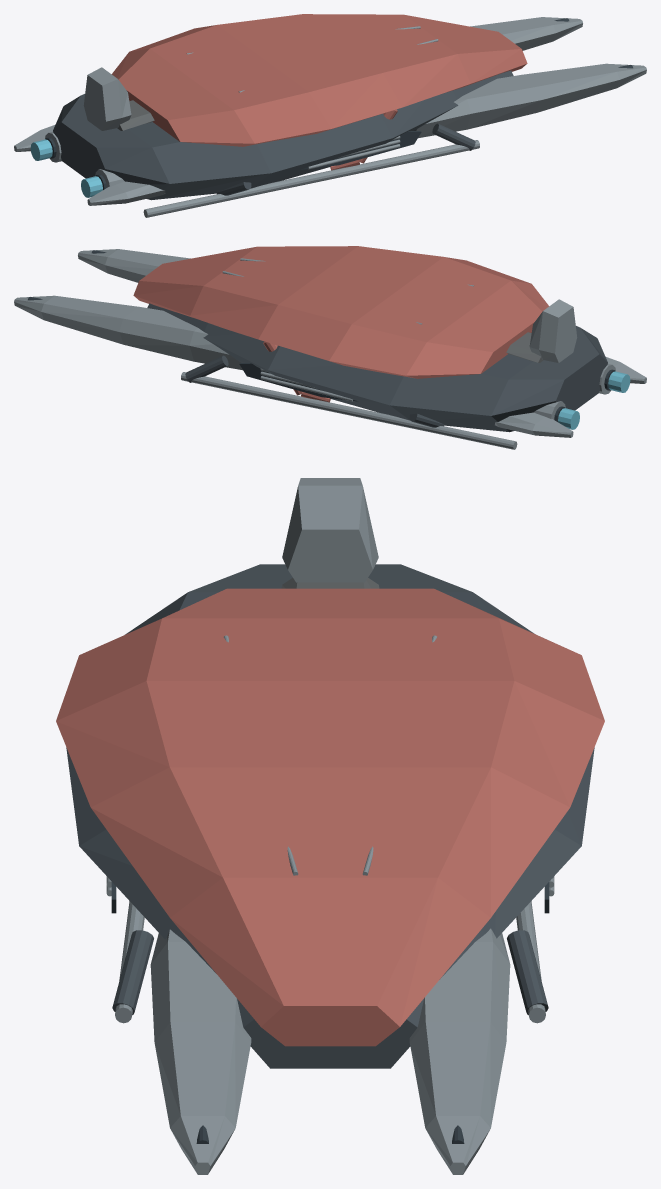
The model's file is solos_red_flight.glb.
3 renders of one model, top to bottom at view 1: azimuth 30°, elevation 25°; view 2: azimuth 150°, elevation 25°; view 3: azimuth 270°, elevation 25°, orthographic. The views are drawn at different scales.
Visible parts, largest first — view 1: upper_fairing_1, chassis_0, forward_prongs_2, lower_ski_4, seat_back_11, aft_fins_17, ski_support_5, flight_effect_8, side_vent_14, vent_louvers_15, seat_cushion_10, aft_engine_6; view 2: upper_fairing_1, chassis_0, forward_prongs_2, lower_ski_4, seat_back_11, aft_fins_17, ski_support_5, flight_effect_8, side_vent_14, seat_cushion_10, vent_louvers_15, aft_engine_6; view 3: upper_fairing_1, forward_prongs_2, chassis_0, seat_back_11, ski_support_5, lower_ski_4.
Part boxes in pixels (x1,y1,x2,y2): upper_fairing_1: (111,14,527,146); chassis_0: (53,70,513,200); forward_prongs_2: (416,17,646,138); lower_ski_4: (143,140,479,217); seat_back_11: (83,67,131,130); aft_fins_17: (14,125,165,205); ski_support_5: (216,123,475,195); flight_effect_8: (30,139,102,197); side_vent_14: (301,131,421,169); vent_louvers_15: (308,136,400,169); seat_cushion_10: (117,100,154,130); aft_engine_6: (45,131,124,187); upper_fairing_1: (133,246,549,378); chassis_0: (147,303,607,432); forward_prongs_2: (14,249,242,370); lower_ski_4: (181,372,517,449); seat_back_11: (529,299,577,362); aft_fins_17: (495,357,646,437); ski_support_5: (185,355,444,427); flight_effect_8: (558,371,630,429); side_vent_14: (239,363,357,401); seat_cushion_10: (506,332,543,362); vent_louvers_15: (260,368,352,401); aft_engine_6: (533,363,615,419); upper_fairing_1: (56,588,604,1046); forward_prongs_2: (150,928,510,1174); chassis_0: (66,564,594,1068); seat_back_11: (282,478,378,582); ski_support_5: (112,930,548,1014); lower_ski_4: (115,901,545,1023).
Bounding box in the file's own units: 6.7 × 1.31 × 2.84.
